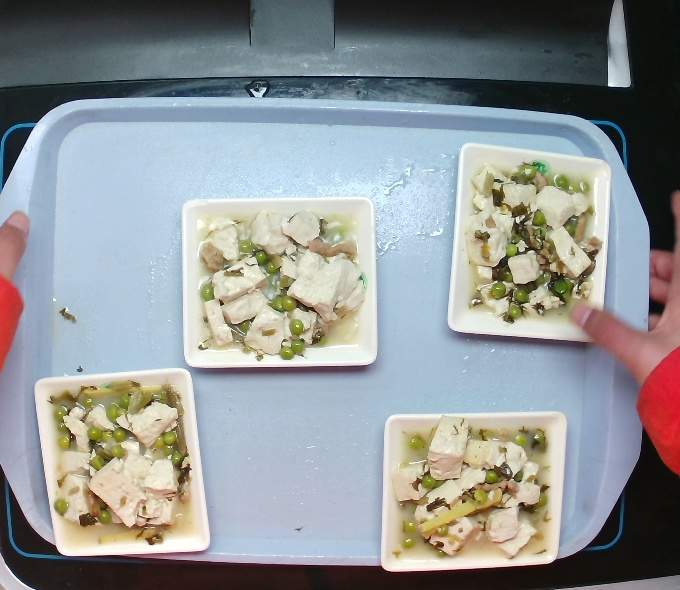wcq-CanDouDouFu: (456, 149, 615, 336), (377, 412, 560, 564), (198, 205, 364, 360), (51, 372, 187, 552)
